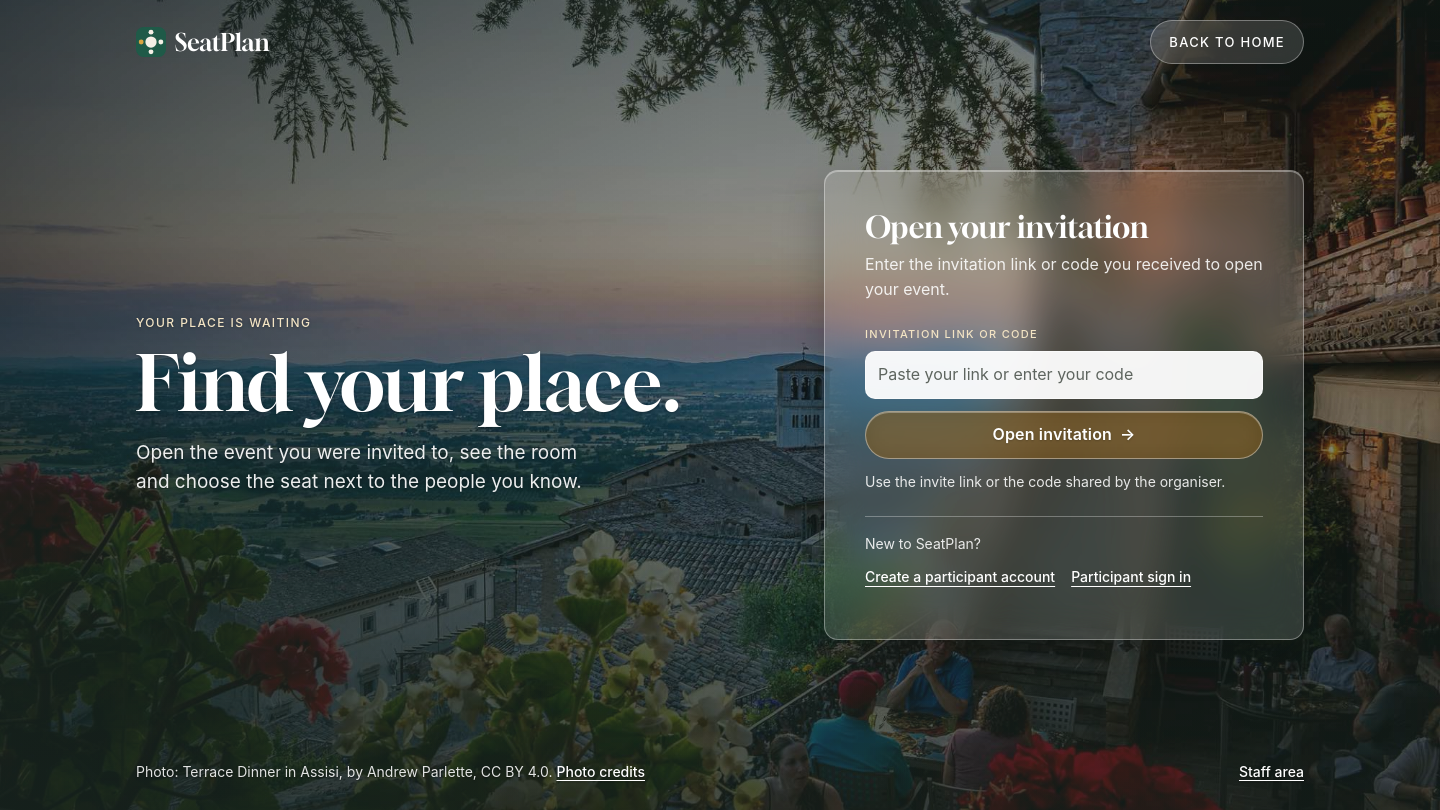
Test: Participant entry › rejects an invitation link from a different site
Type "https://example.com/j/token" into the field labelled "Invitation link or code".
click(1064, 375); type("https://example.com/j/token")  # box [865, 351, 1263, 399]
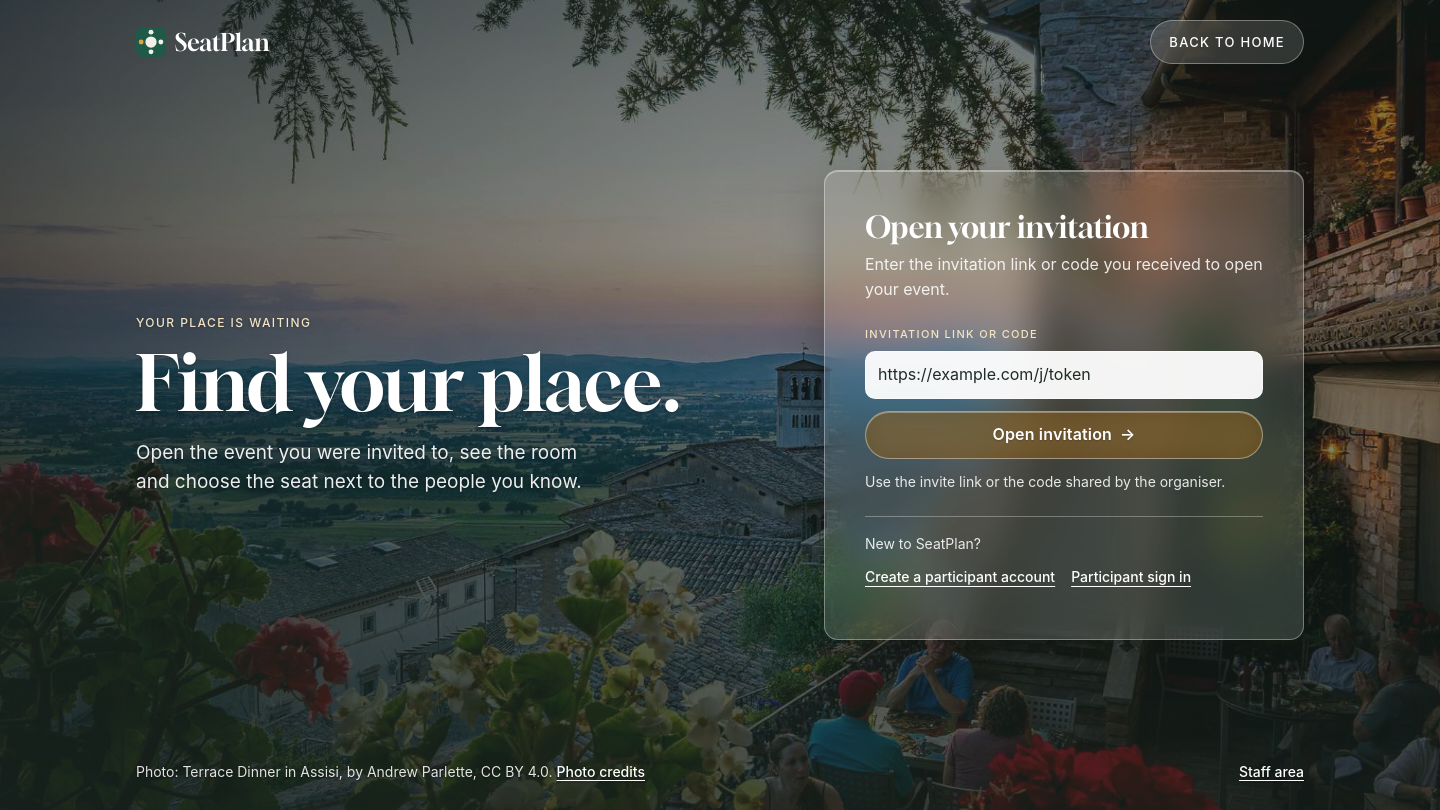
Click the button "Open invitation →".
click(1064, 435)  # box [865, 411, 1263, 459]
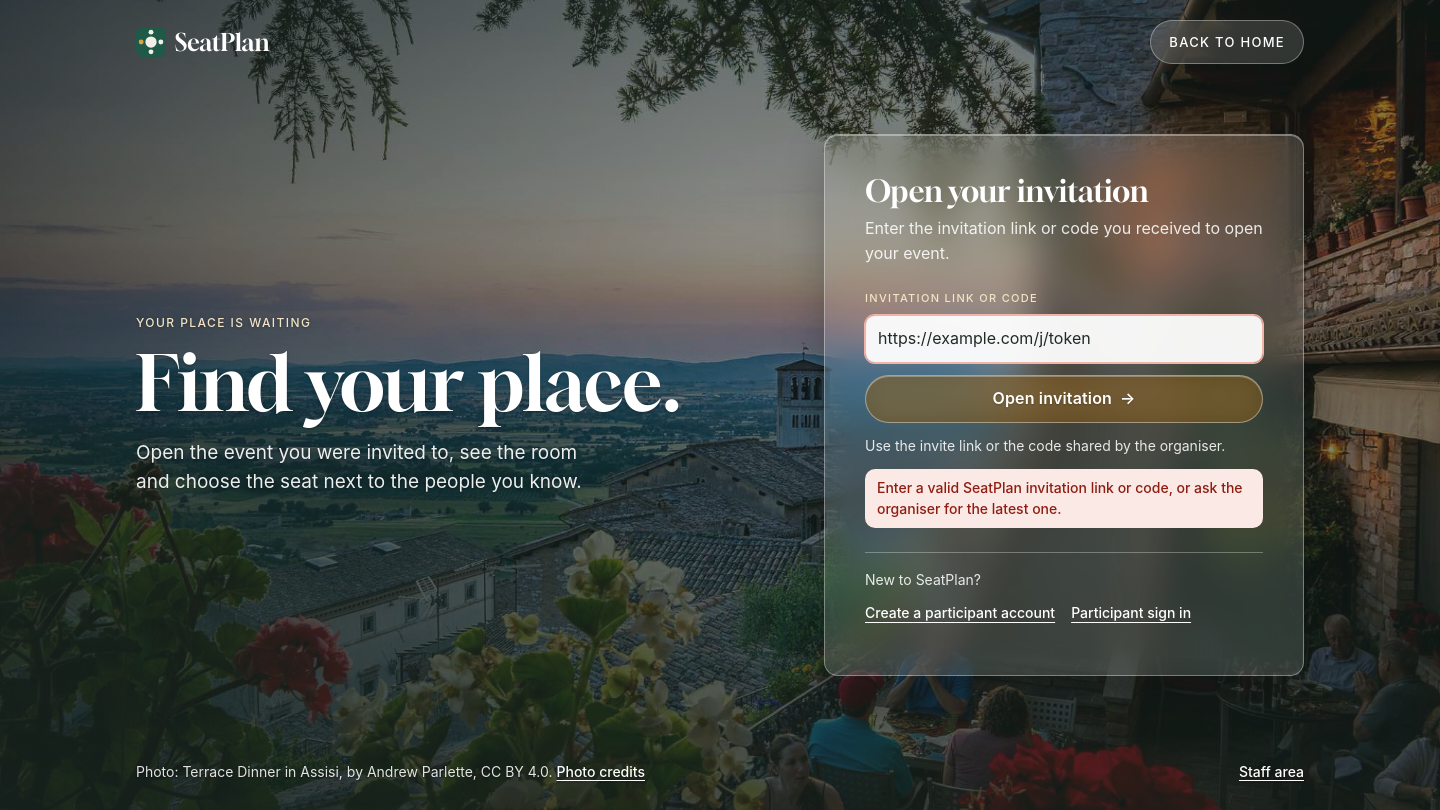
Expected: the message shows "valid SeatPlan invitation", [877, 479, 1243, 517]
